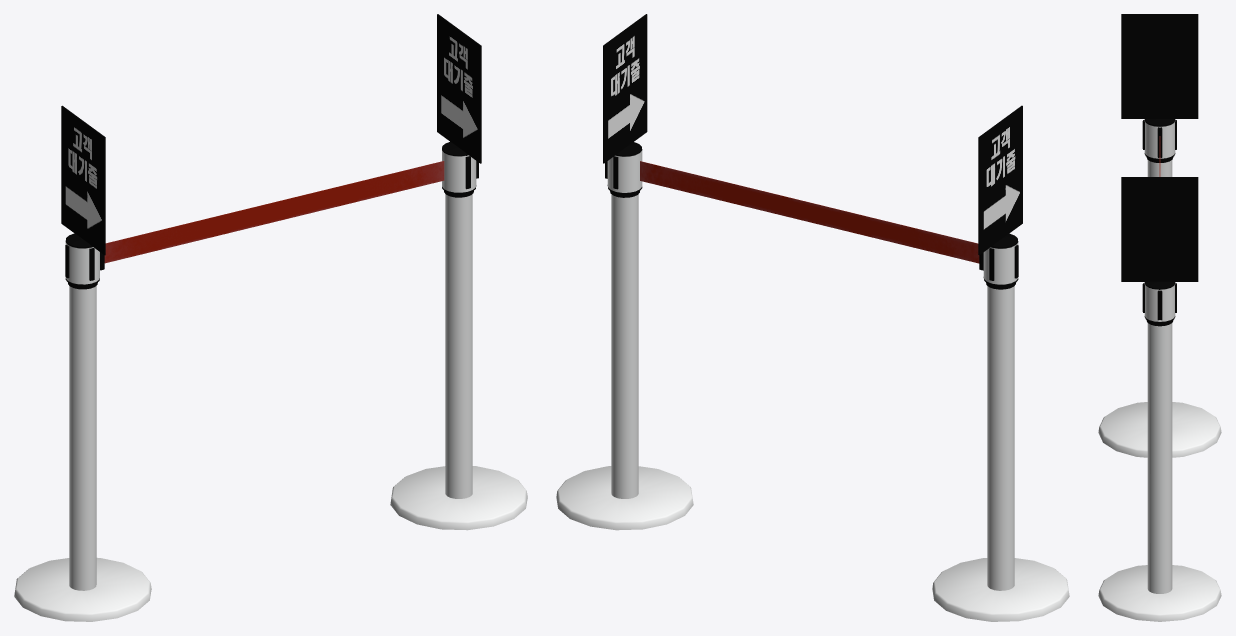
The model's file is LC_3062_rod_LOD2.fbx.
3 views of the same model, side by side, from view 1: azimuth 30°, elevation 25°; view 2: azimuth 150°, elevation 25°; view 3: azimuth 270°, elevation 25° (orthographic). The views are drawn at different scales.
Visible parts, largest first — view 1: LC_3062_rod_LOD2; view 2: LC_3062_rod_LOD2; view 3: LC_3062_rod_LOD2.
Boxes of the visible parts, x1,y1,x2,y2 form: LC_3062_rod_LOD2: (14, 14, 527, 621); LC_3062_rod_LOD2: (556, 14, 1069, 621); LC_3062_rod_LOD2: (1098, 14, 1221, 621).
Size of the model in its own units: 132 by 120 by 32.
Materials: 1 (1 with a texture image).
